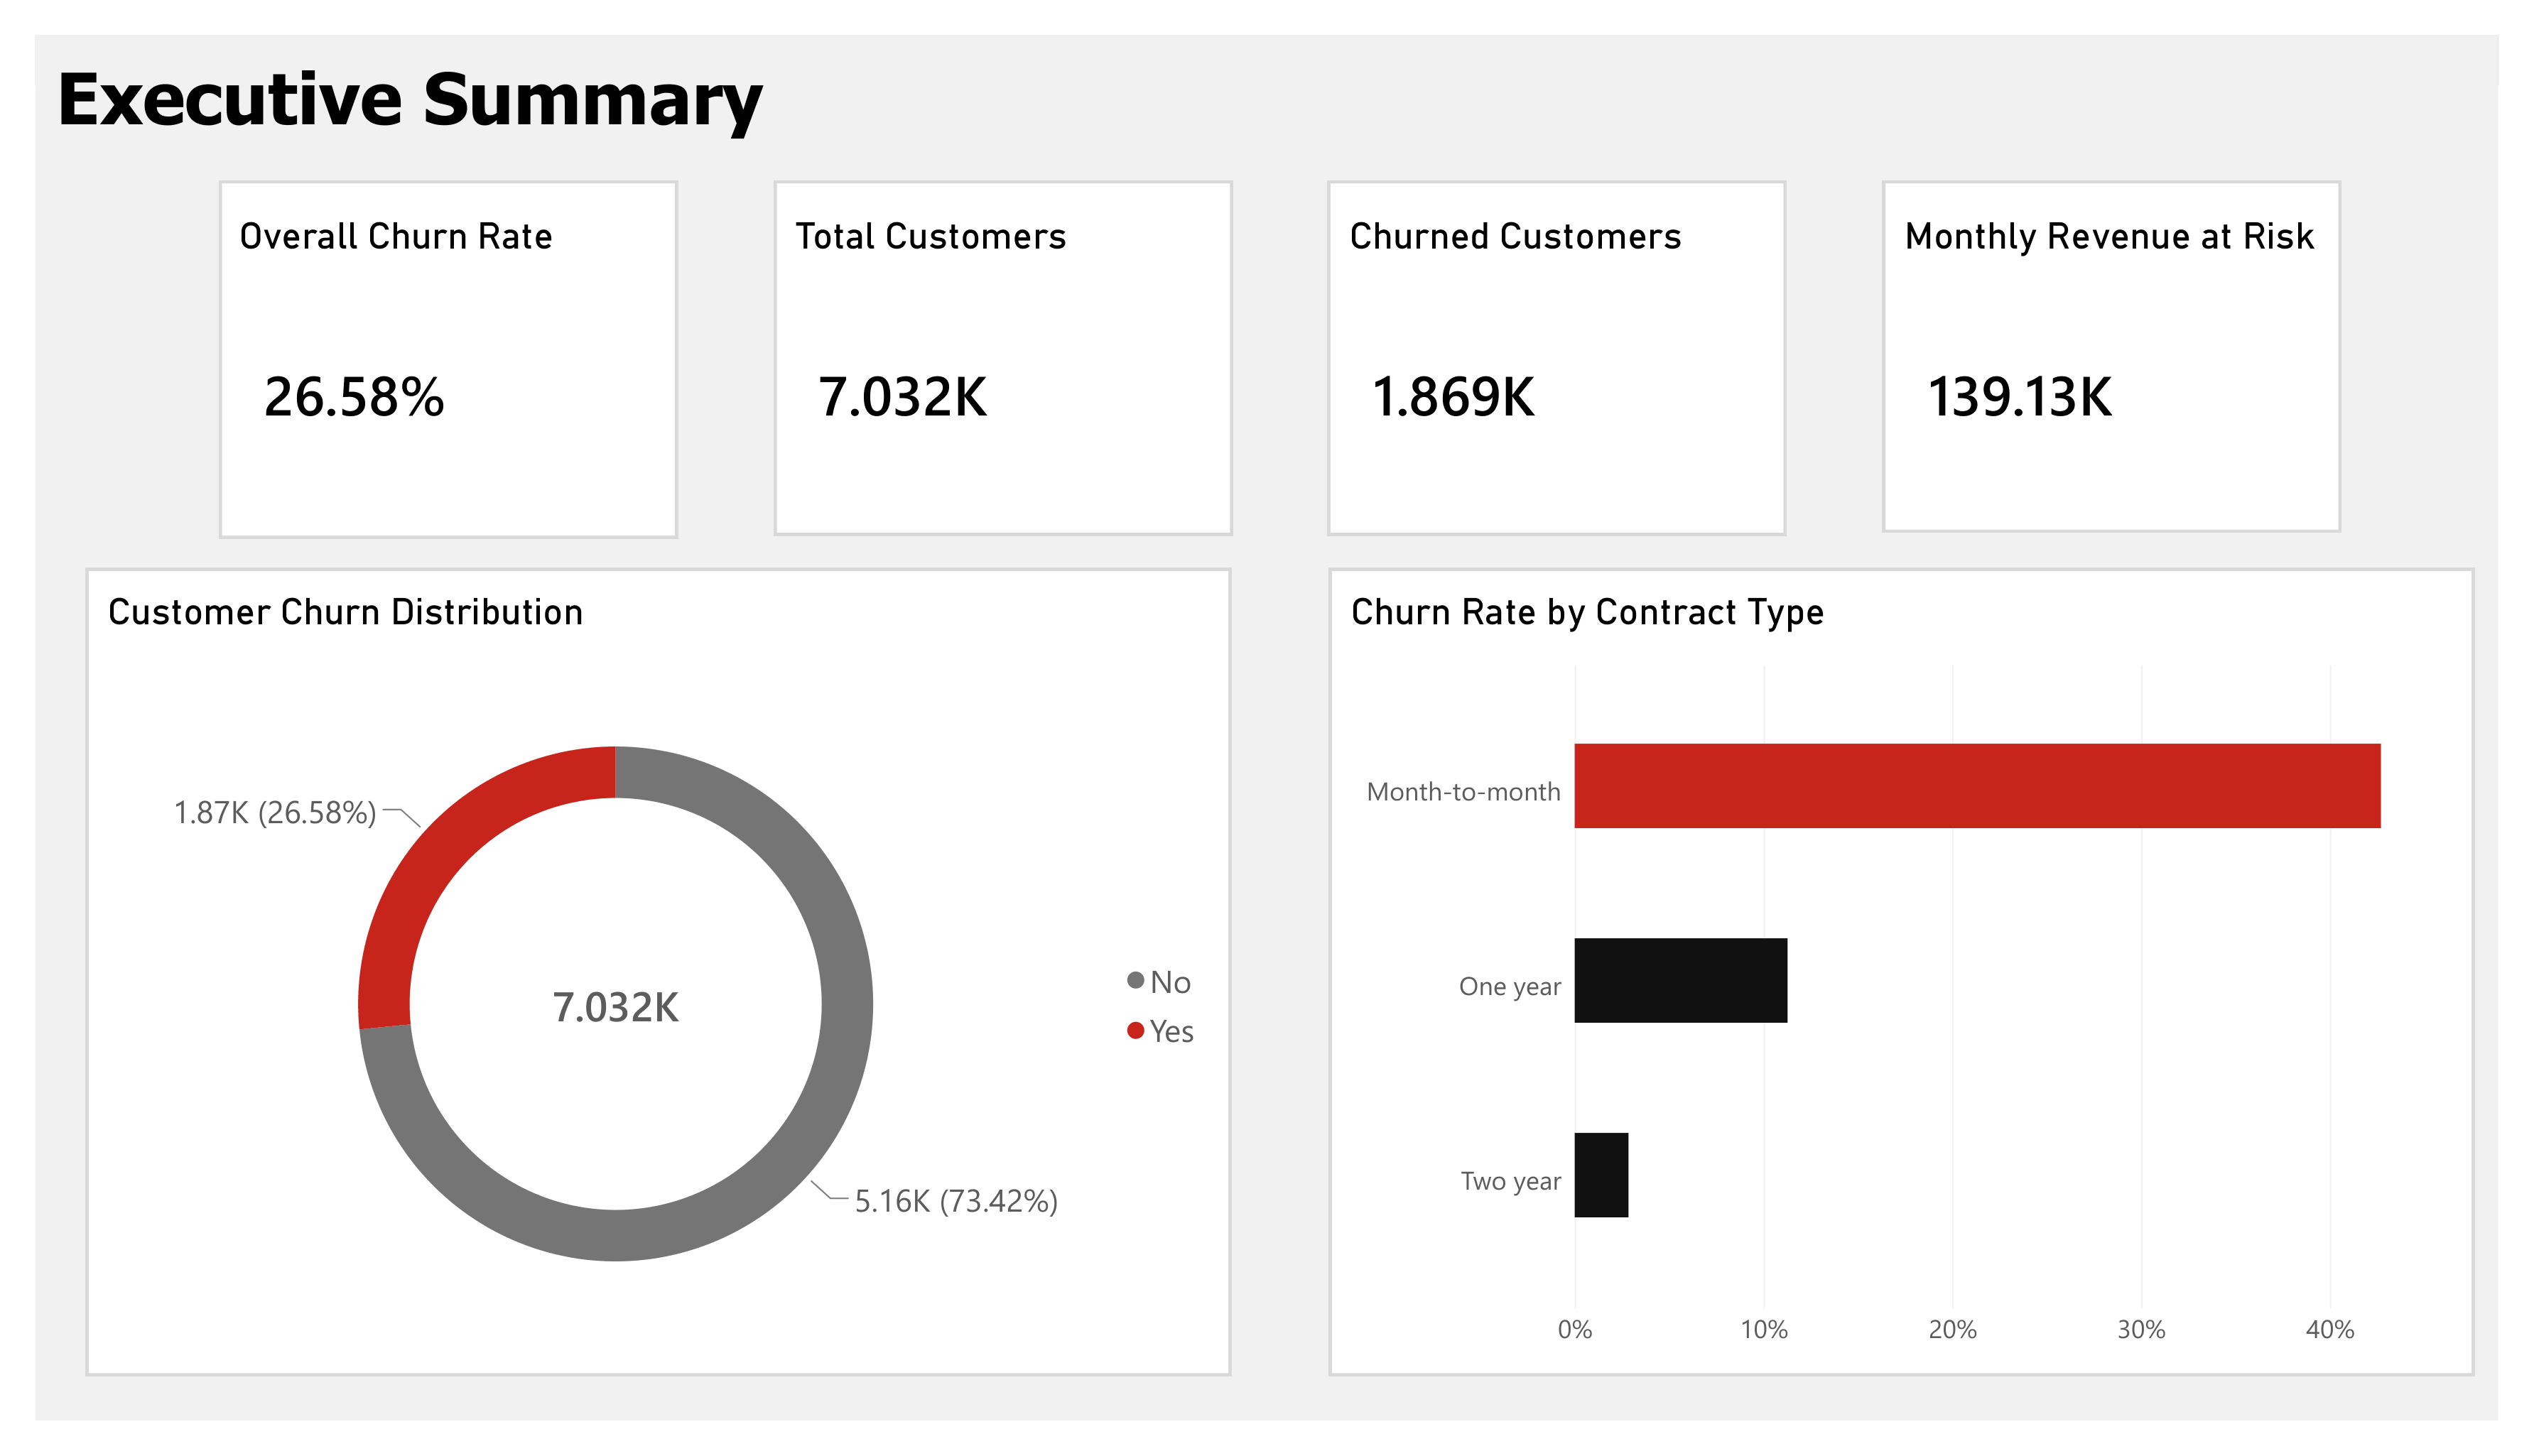

Layout of this report page (visuals, bound fields, positions):
{"tool":"powerbi","page":{"name":"Executive Summary","canvas":[1664,936],"ordinal":0},"visuals":[{"type":"shape","box":[34,360,774,546],"z":0},{"type":"shape","box":[874,360,774,546],"z":1000},{"type":"shape","box":[124,98,310,242],"z":2000},{"type":"shape","box":[498.7,98,310,240],"z":3000},{"type":"shape","box":[873.3,98,310,240],"z":4000},{"type":"shape","box":[1248,98,310,238],"z":5000},{"type":"cardVisual","title":"Overall Churn Rate","fields":{"Data":["Avg(telco_with_predictions.churn_value)"]},"box":[138.3,120,280,198],"z":6000},{"type":"cardVisual","title":"Total Customers","fields":{"Data":["Count(telco_with_predictions.customerID)"]},"box":[513.3,120,280,198],"z":7000},{"type":"cardVisual","title":"Churned Customers","fields":{"Data":["Count(telco_with_predictions.customerID)"]},"box":[888.3,120,280,198],"z":8000},{"type":"cardVisual","title":"Monthly Revenue at Risk","fields":{"Data":["Sum(telco_with_predictions.MonthlyCharges)"]},"box":[1263.3,120,280,198],"z":9000},{"type":"donutChart","title":"Customer Churn Distribution","fields":{"Category":["telco_with_predictions.Churn"],"Y":["CountNonNull(telco_with_predictions.customerID)"]},"box":[33.3,360,775,546.7],"z":10000},{"type":"barChart","title":"Churn Rate by Contract Type","fields":{"Category":["telco_with_predictions.Contract"],"Y":["Avg(telco_with_predictions.churn_value)"]},"box":[873.3,360,773.3,546.7],"z":11000},{"type":"textbox","box":[14,12,498,80],"z":13000}]}

Visuals, with their boxes on the page's 1664x936 design canvas (x1, y1, x2, y2). These are canvas units, not pixel positions in the 2534x1456 screenshot, which may show the page scaled, cropped or inside an application window:
shape: BBox(34, 360, 808, 906)
shape: BBox(874, 360, 1648, 906)
shape: BBox(124, 98, 434, 340)
shape: BBox(499, 98, 809, 338)
shape: BBox(873, 98, 1183, 338)
shape: BBox(1248, 98, 1558, 336)
"Overall Churn Rate" cardVisual: BBox(138, 120, 418, 318)
"Total Customers" cardVisual: BBox(513, 120, 793, 318)
"Churned Customers" cardVisual: BBox(888, 120, 1168, 318)
"Monthly Revenue at Risk" cardVisual: BBox(1263, 120, 1543, 318)
"Customer Churn Distribution" donutChart: BBox(33, 360, 808, 907)
"Churn Rate by Contract Type" barChart: BBox(873, 360, 1647, 907)
textbox: BBox(14, 12, 512, 92)
